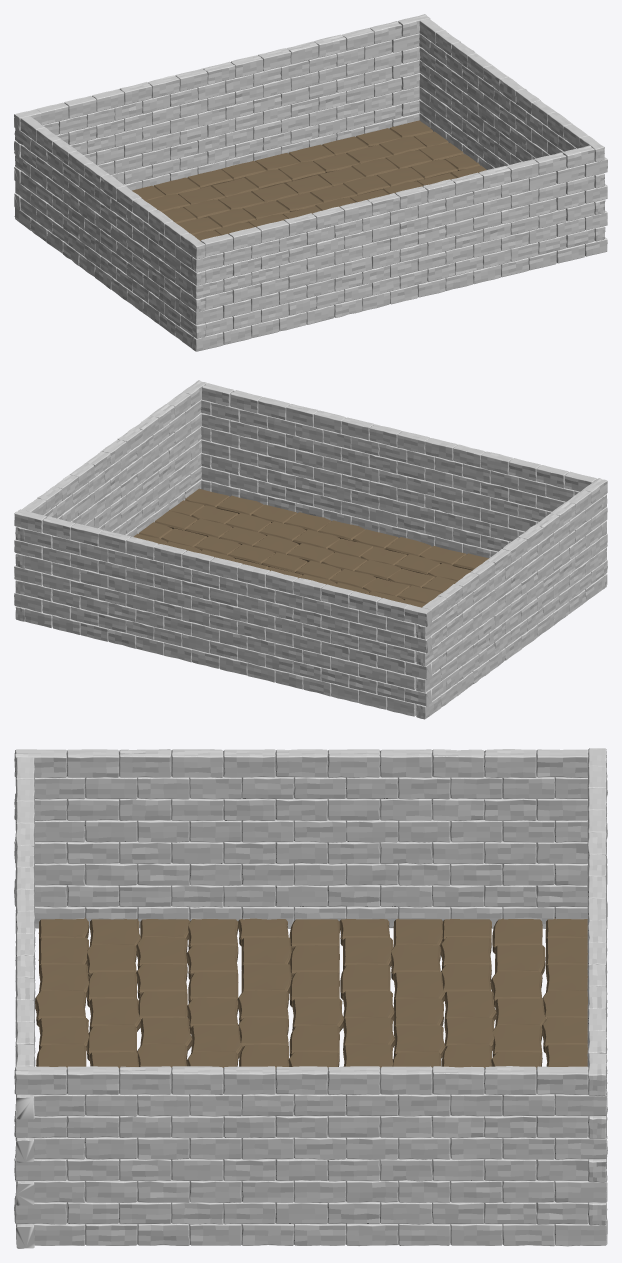
Rendered from TiledRoom.fbx.
3 views of the same model, one above another, from view 1: azimuth 30°, elevation 25°; view 2: azimuth 150°, elevation 25°; view 3: azimuth 270°, elevation 25° (orthographic). The views are drawn at different scales.
Visible parts, largest first — view 1: Cube.290, Tile.075, Tile.086, Tile.117, Tile.095, Tile.051, Tile.052, Tile.106, Tile.119, Tile.107, Tile.073, Tile.118 (+21 smaller); view 2: Cube.290, Tile.122, Tile.110, Tile.091, Tile.112, Tile.080, Tile.079, Tile.077, Tile.078, Tile.045, Tile.055, Tile.057 (+21 smaller); view 3: Cube.290, Tile.024, Tile.038, Tile.014, Tile.051, Tile.034, Tile.040, Tile.033, Tile.031, Tile.036, Tile.015, Tile.017 (+55 smaller).
Boxes of the visible parts, x1,y1,x2,y2 form: Cube.290: [14, 14, 607, 351]; Tile.075: [244, 169, 291, 189]; Tile.086: [278, 161, 325, 181]; Tile.117: [410, 159, 458, 179]; Tile.095: [343, 175, 390, 195]; Tile.051: [208, 208, 255, 227]; Tile.052: [183, 199, 229, 218]; Tile.106: [377, 167, 423, 186]; Tile.119: [379, 136, 426, 155]; Tile.107: [351, 158, 398, 176]; Tile.073: [276, 192, 323, 211]; Tile.118: [385, 150, 432, 168]; Cube.290: [14, 380, 607, 719]; Tile.122: [154, 500, 204, 530]; Tile.110: [216, 495, 263, 515]; Tile.091: [228, 544, 274, 564]; Tile.112: [185, 518, 232, 538]; Tile.080: [261, 552, 307, 572]; Tile.079: [287, 543, 333, 562]; Tile.077: [318, 520, 364, 540]; Tile.078: [293, 529, 339, 548]; Tile.045: [395, 554, 440, 574]; Tile.055: [385, 537, 431, 556]; Tile.057: [354, 559, 401, 580]; Cube.290: [14, 748, 607, 1248]; Tile.024: [136, 963, 187, 998]; Tile.038: [292, 998, 343, 1031]; Tile.014: [186, 944, 238, 979]; Tile.051: [393, 1025, 445, 1058]; Tile.034: [89, 998, 140, 1031]; Tile.040: [393, 998, 443, 1030]; Tile.033: [35, 990, 86, 1026]; Tile.031: [490, 971, 542, 1006]; Tile.036: [187, 998, 238, 1033]; Tile.015: [241, 937, 291, 969]; Tile.017: [343, 937, 393, 969].
Size of the model in its own units: 2935 by 727 by 2248.
